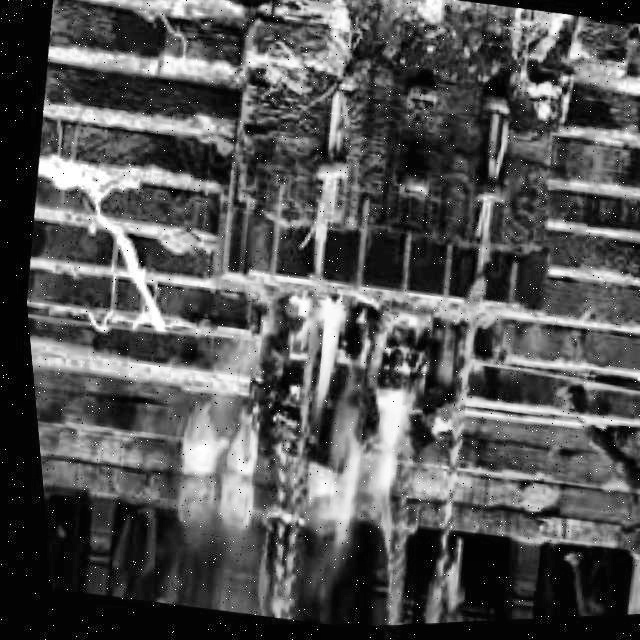Smoke: (249, 288, 428, 569)
